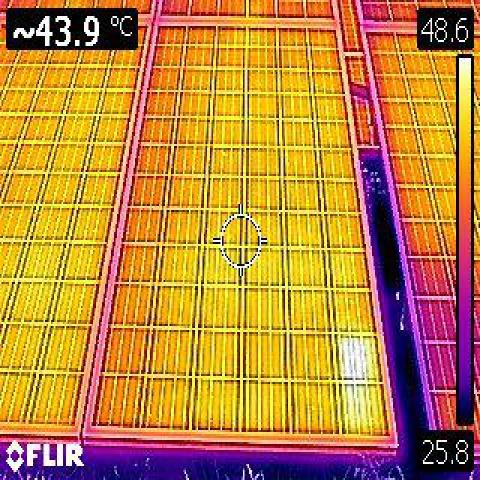fault: (338, 337, 382, 381)
